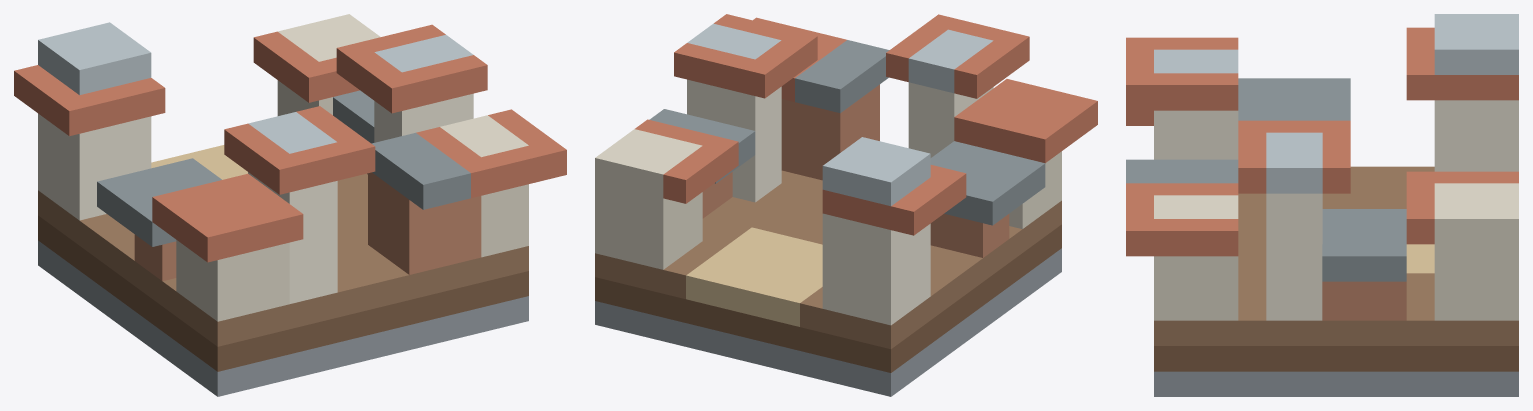
File: city.lod1.glb
The picture shows the model from 3 angles, left to right: view 1: azimuth 30°, elevation 25°; view 2: azimuth 150°, elevation 25°; view 3: azimuth 270°, elevation 25°; orthographic projection. The views are drawn at different scales.
Parts seen in each view (by area): view 1: VX_city_LOD1; view 2: VX_city_LOD1; view 3: VX_city_LOD1.
Part boxes in pixels (box(x1,y1,x2,y2)): VX_city_LOD1: box(14, 14, 566, 396); VX_city_LOD1: box(595, 14, 1097, 396); VX_city_LOD1: box(1126, 14, 1518, 396).
Bounding box in the file's own units: 6.6 × 3.96 × 6.16.
